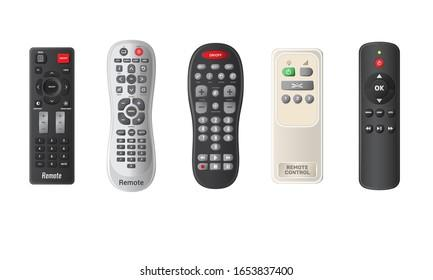Remote control: (185, 42, 245, 191), (28, 46, 76, 186), (357, 41, 401, 192)
